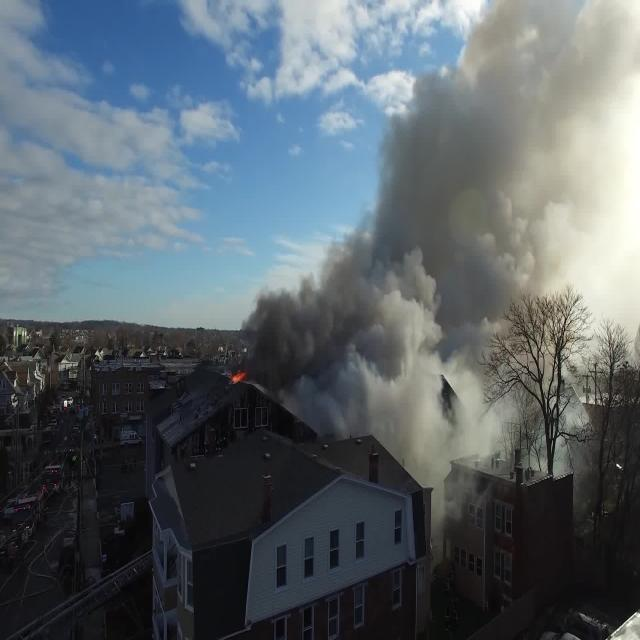Smoke: (461, 0, 639, 309), (273, 278, 454, 488)
